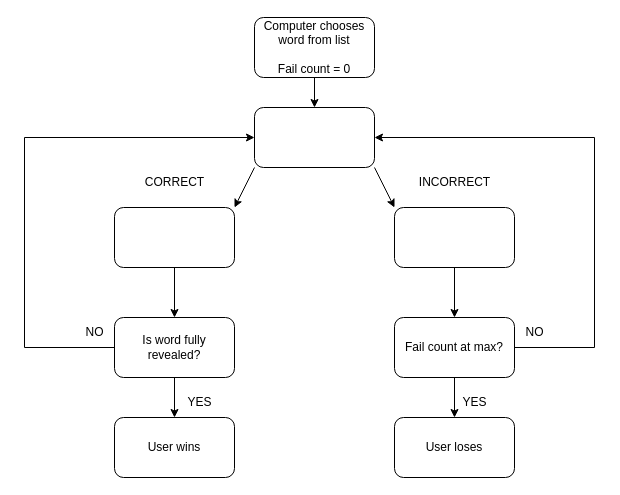
Some shapes in this 620 by 495 pixel diagram are drawn without their labels. Here are the shapes that lost their labels. From the top down, the centre of each, then its label:
At point 314,137: "Ask user for input".
At point 174,237: "Reveal letter".
At point 454,237: "Increment fail counter".
